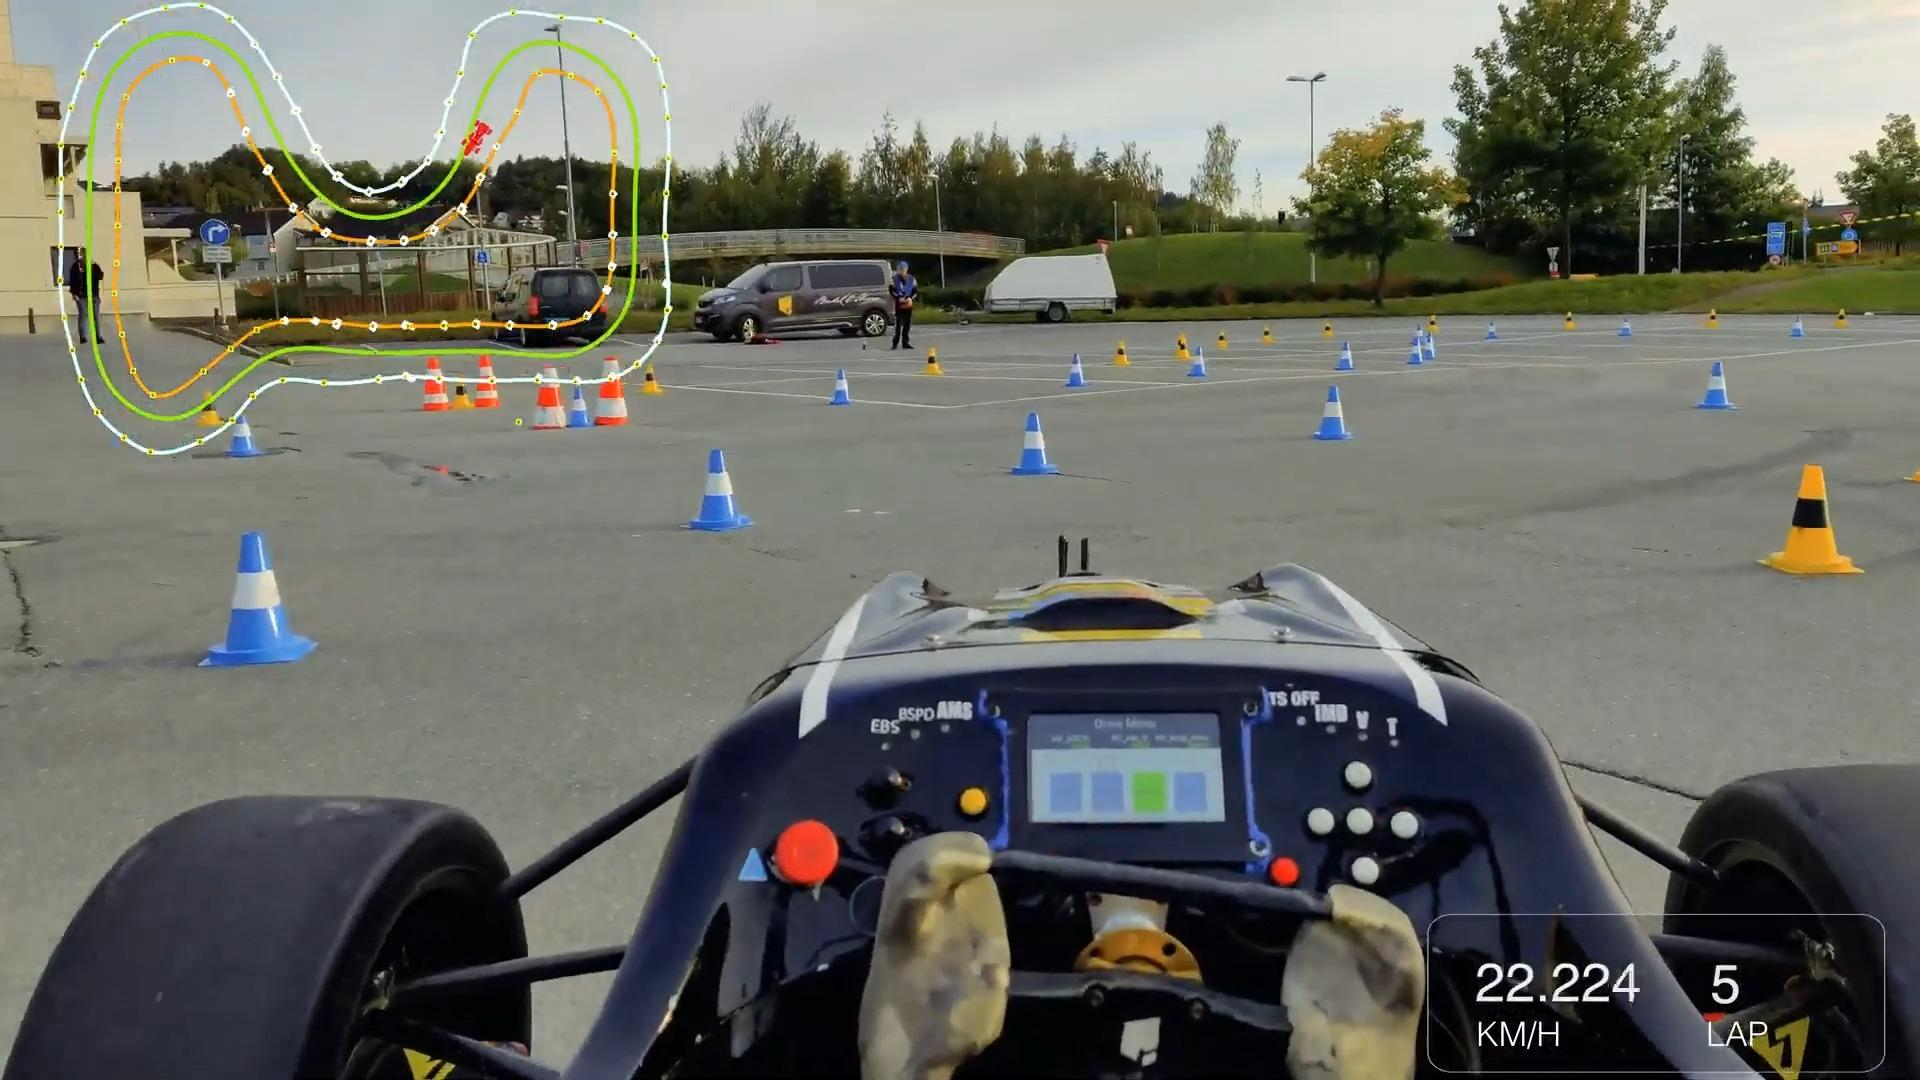blue_cone: (195, 529, 323, 670), (684, 447, 752, 534), (1006, 402, 1063, 476), (1689, 360, 1739, 411), (1312, 386, 1354, 442), (228, 415, 262, 456), (827, 369, 855, 409), (568, 385, 593, 427), (1063, 348, 1089, 388), (1333, 339, 1357, 372), (1191, 347, 1209, 378), (1404, 338, 1424, 365), (1618, 316, 1635, 338), (1789, 315, 1805, 338), (1424, 332, 1436, 360), (1485, 319, 1499, 340), (1412, 322, 1424, 344), (1767, 338, 1767, 338)
large_orange_cone: (596, 355, 630, 426), (534, 363, 568, 434), (421, 355, 451, 411), (475, 353, 502, 411)
yellow_cone: (1758, 460, 1873, 579), (920, 344, 944, 377), (1903, 452, 1920, 492), (642, 365, 663, 394), (452, 378, 471, 410), (1114, 340, 1130, 367), (1261, 324, 1278, 345), (1425, 314, 1441, 334), (1705, 309, 1721, 328), (1836, 307, 1850, 328), (1179, 339, 1191, 359), (1323, 320, 1335, 339), (1217, 330, 1229, 348), (1564, 310, 1575, 327), (1176, 334, 1185, 352)
